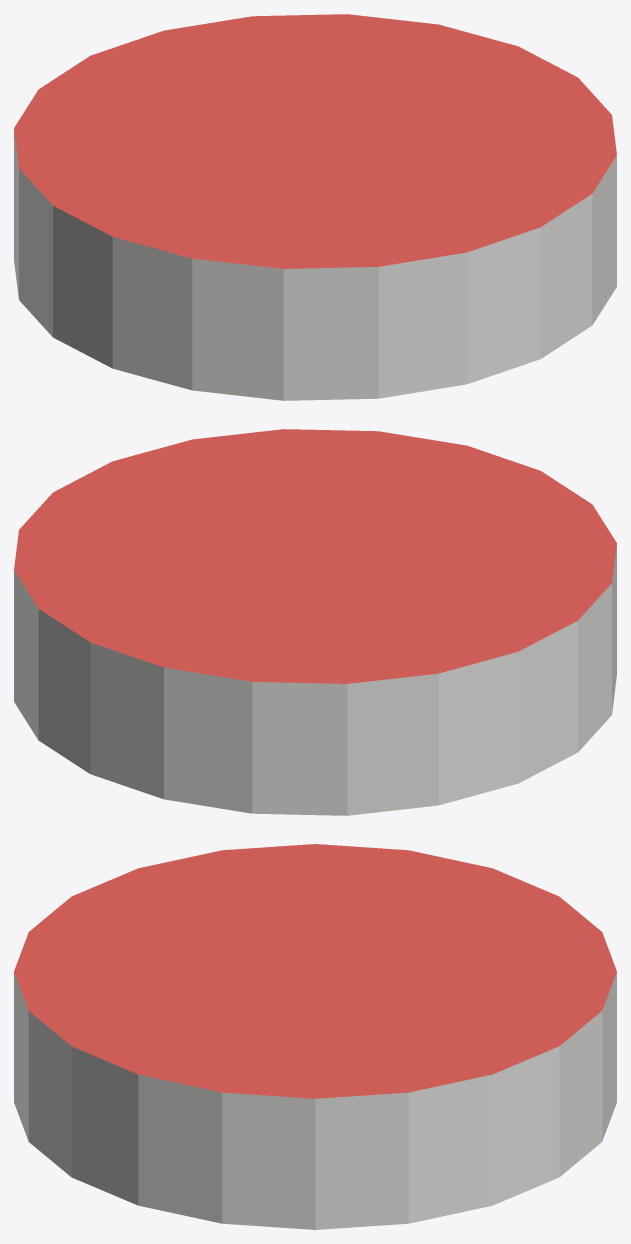
Rendered from POKER-04.glb.
3 views of the same model, one above another, from view 1: azimuth 30°, elevation 25°; view 2: azimuth 150°, elevation 25°; view 3: azimuth 270°, elevation 25° (orthographic).
Parts seen in each view (by area): view 1: dealer_button; view 2: dealer_button; view 3: dealer_button.
Part boxes in pixels (x1=…): dealer_button: x1=14, y1=14, x2=616, y2=400; dealer_button: x1=14, y1=429, x2=616, y2=815; dealer_button: x1=14, y1=844, x2=616, y2=1229.
Size of the model in its own units: 0.05 by 0.012 by 0.05.
